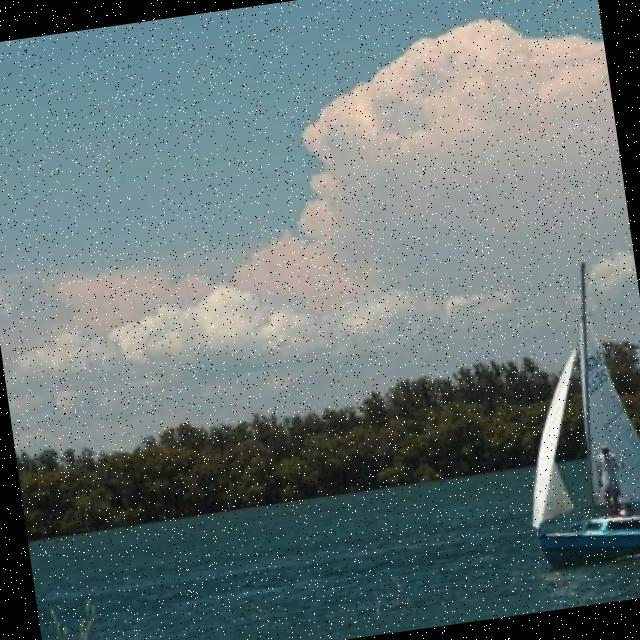Cb: (1, 1, 634, 335)
